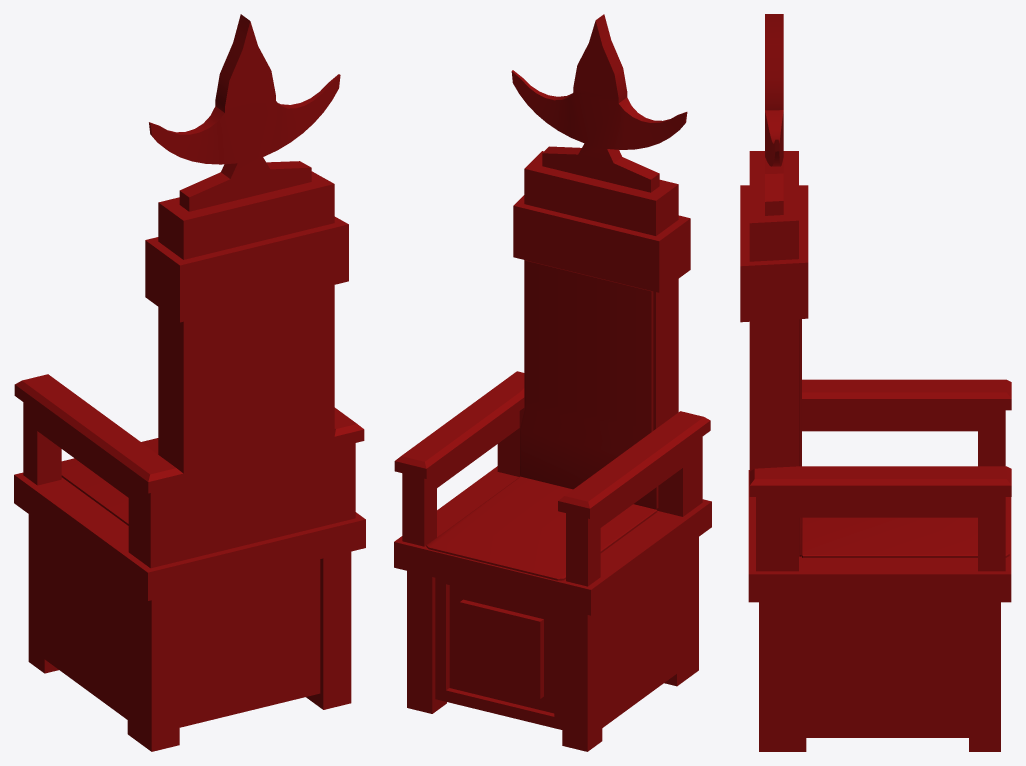
The model's file is Tron.fbx.
The picture shows the model from 3 angles, left to right: view 1: azimuth 30°, elevation 25°; view 2: azimuth 150°, elevation 25°; view 3: azimuth 270°, elevation 25°; orthographic projection. The views are drawn at different scales.
Parts seen in each view (by area): view 1: Base; view 2: Base; view 3: Base.
Boxes of the visible parts, x1=… form: Base: x1=14, y1=14, x2=365, y2=751; Base: x1=394, y1=14, x2=711, y2=751; Base: x1=740, y1=14, x2=1011, y2=751.
Bounding box in the file's own units: 40 × 123 × 43.94.
